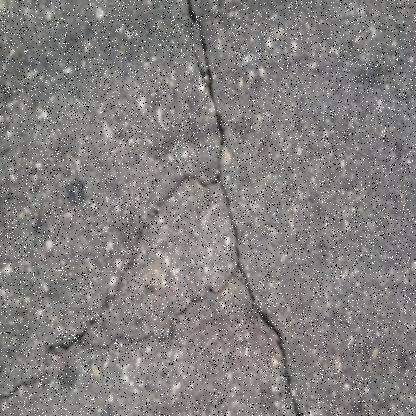Cracks: (0, 167, 244, 410), (184, 0, 304, 416)
